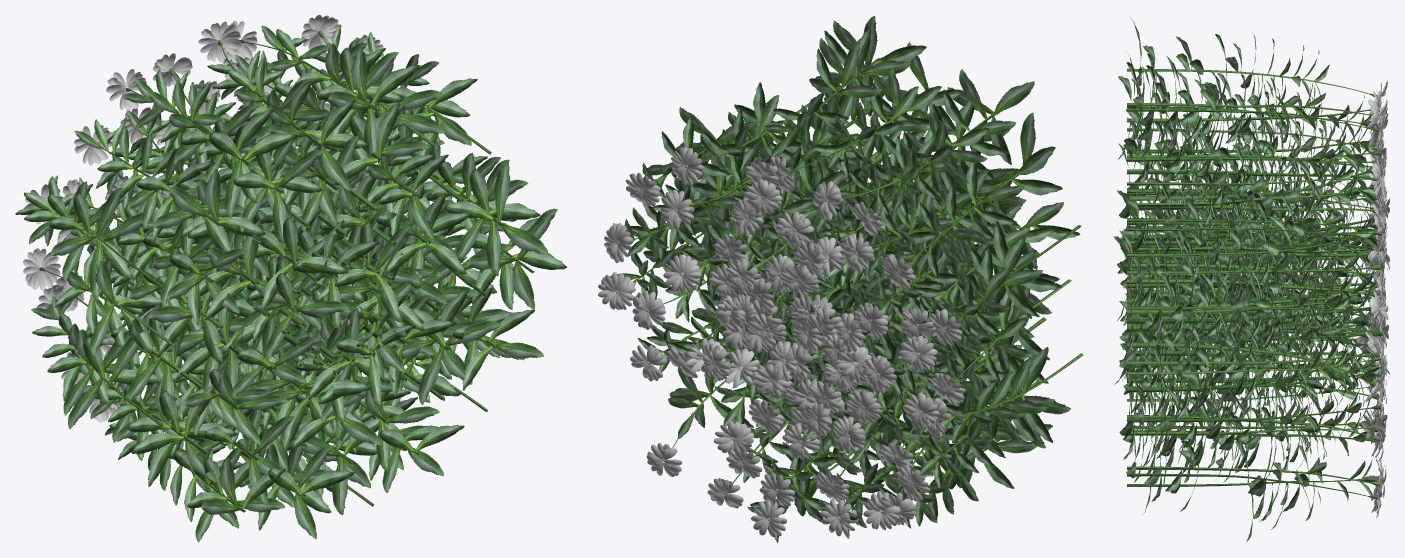
File: hoacuc.fbx
The picture shows the model from 3 angles, left to right: view 1: azimuth 30°, elevation 25°; view 2: azimuth 150°, elevation 25°; view 3: azimuth 270°, elevation 25°; orthographic projection. The views are drawn at different scales.
Visible parts, largest first — view 1: hoacuc; view 2: hoacuc; view 3: hoacuc.
Part boxes in pixels (x1=…): hoacuc: x1=15, y1=15, x2=566, y2=542; hoacuc: x1=598, y1=16, x2=1083, y2=542; hoacuc: x1=1113, y1=16, x2=1389, y2=541.
Bounding box in the file's own units: 6.4 × 6.45 × 3.42.
